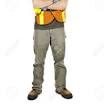high-vis: (35, 7, 67, 25)
